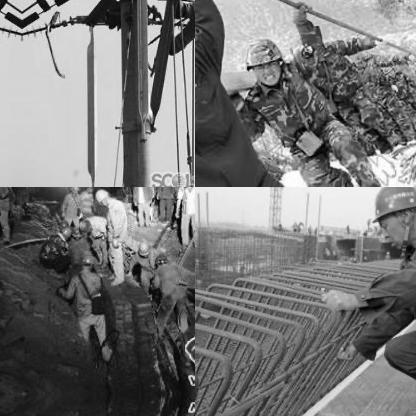Helmet: (362, 187, 415, 244), (240, 30, 286, 88), (77, 250, 95, 270), (92, 187, 110, 205), (136, 239, 152, 257), (77, 217, 93, 233), (68, 223, 82, 240), (152, 250, 168, 264), (58, 223, 70, 239), (84, 187, 97, 191)
